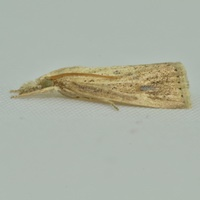insect: (11, 62, 191, 109)
